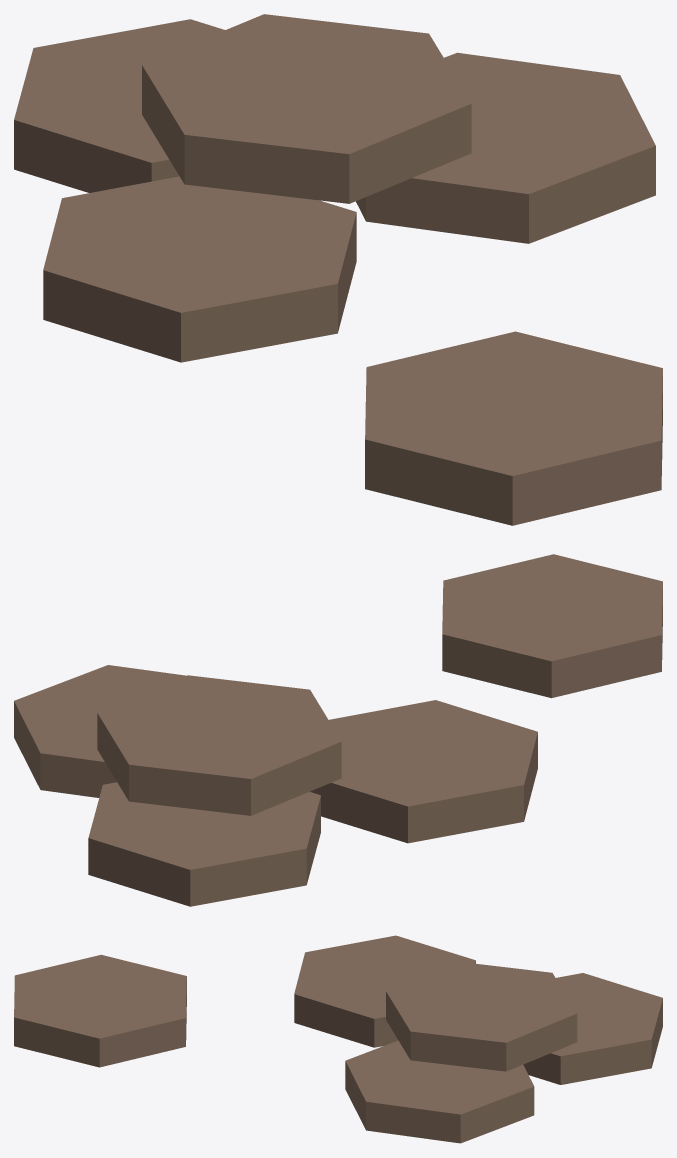
File: SM_Item_Coins_02.glb
3 renders of one model, top to bottom at view 1: azimuth 30°, elevation 25°; view 2: azimuth 150°, elevation 25°; view 3: azimuth 270°, elevation 25°, orthographic. The views are drawn at different scales.
Visible parts, largest first — view 1: SM_Item_Coins_02_00; view 2: SM_Item_Coins_02_00; view 3: SM_Item_Coins_02_00.
Boxes of the visible parts, bbox=[...] form: SM_Item_Coins_02_00: bbox=[14, 14, 662, 525]; SM_Item_Coins_02_00: bbox=[14, 554, 662, 906]; SM_Item_Coins_02_00: bbox=[14, 935, 662, 1143].
Size of the model in its own units: 0.1812 by 0.0272 by 0.2773.
1 material, 1 textured.
